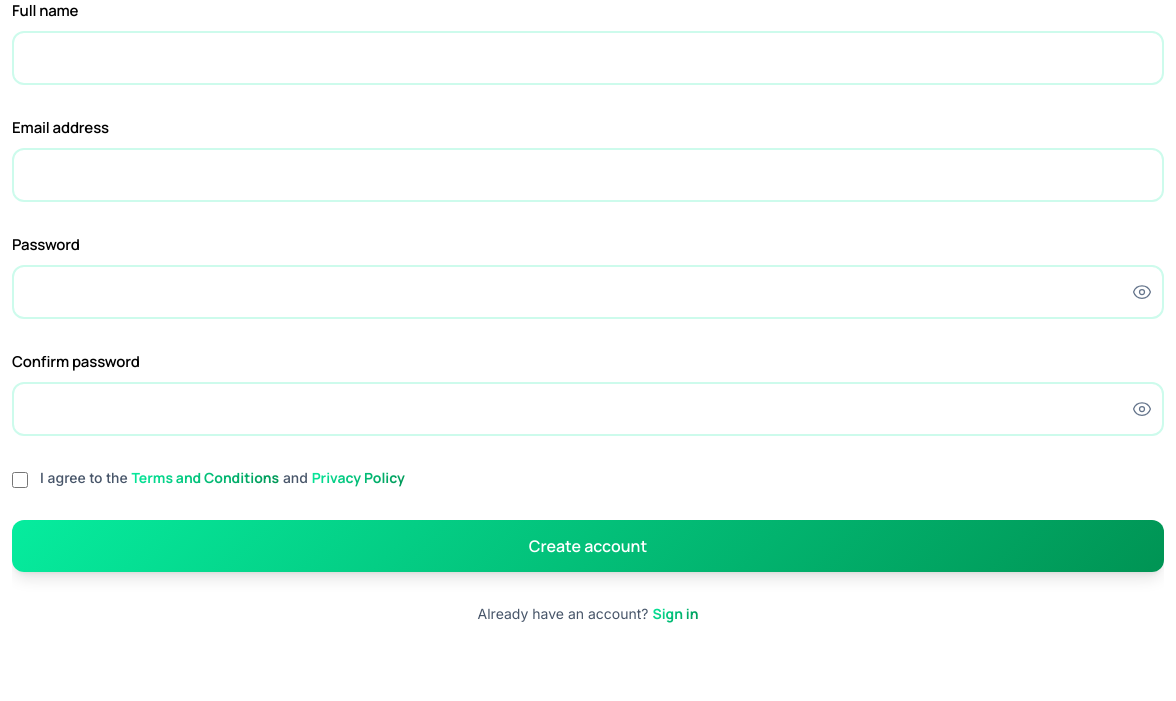
RegisterForm › shows error message for existing email (409)
This screenshot has width=1176, height=701.
Step 1. Type "John Doe" into the field labelled "Full name" → (588, 58), box [12,30,1164,85]
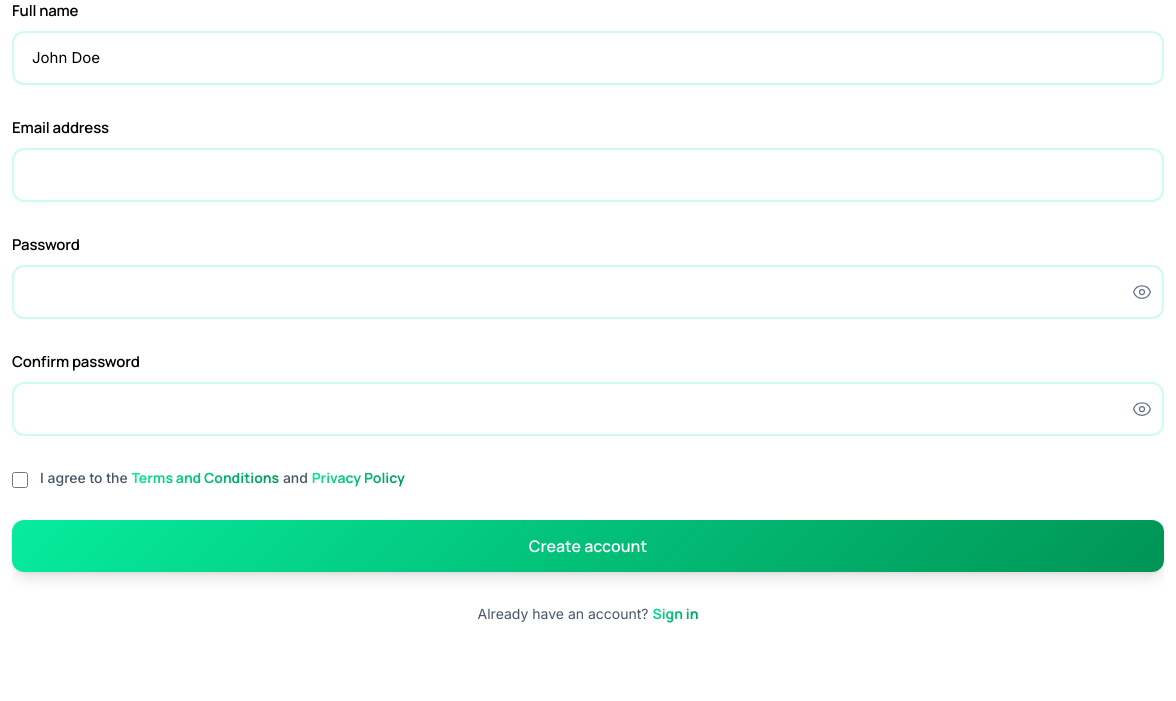
Step 2. Type "existing@example.com" into the field labelled "Email address" → (588, 175), box [12,148,1164,202]
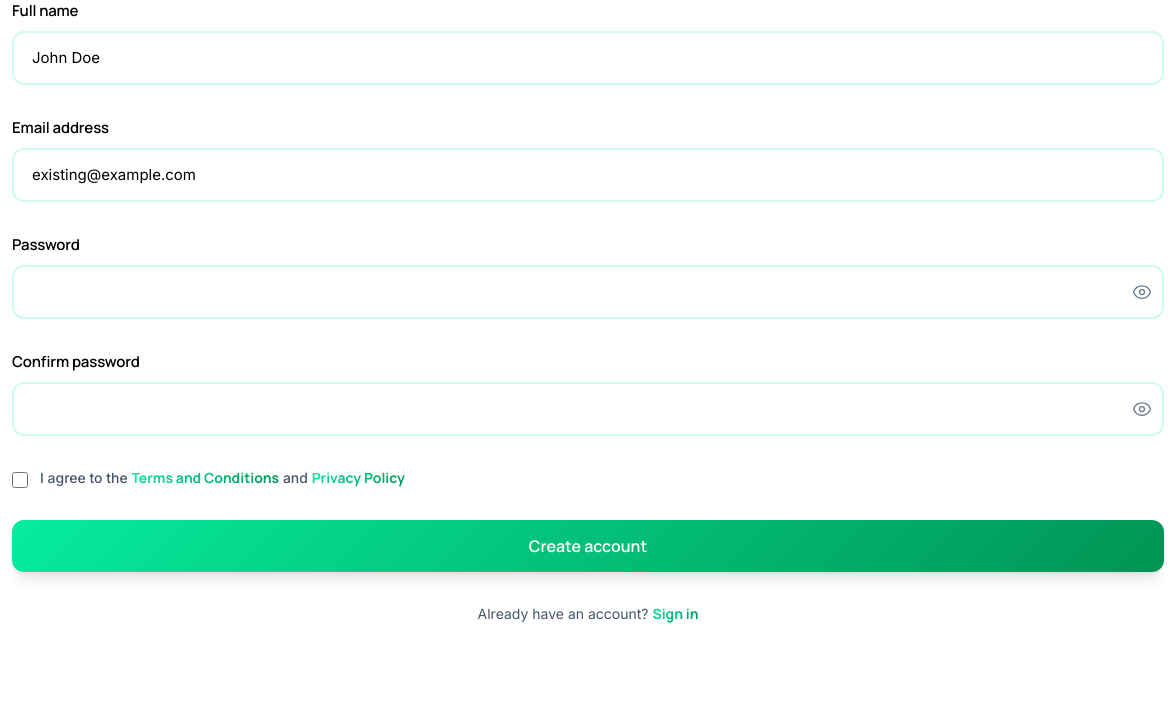
Step 3. Type "Password123!" into the password field labelled "Password" → (588, 292), box [12,264,1164,319]
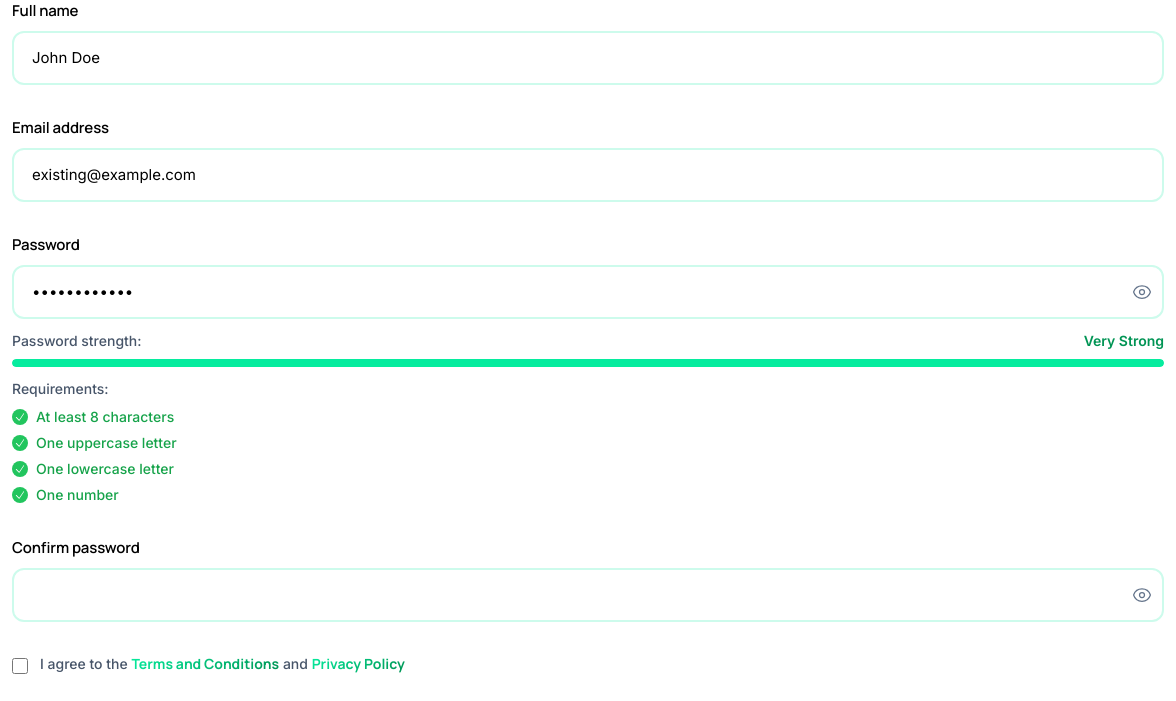
Step 4. Type "Password123!" into the password field labelled "Confirm password" → (588, 595), box [12,568,1164,622]
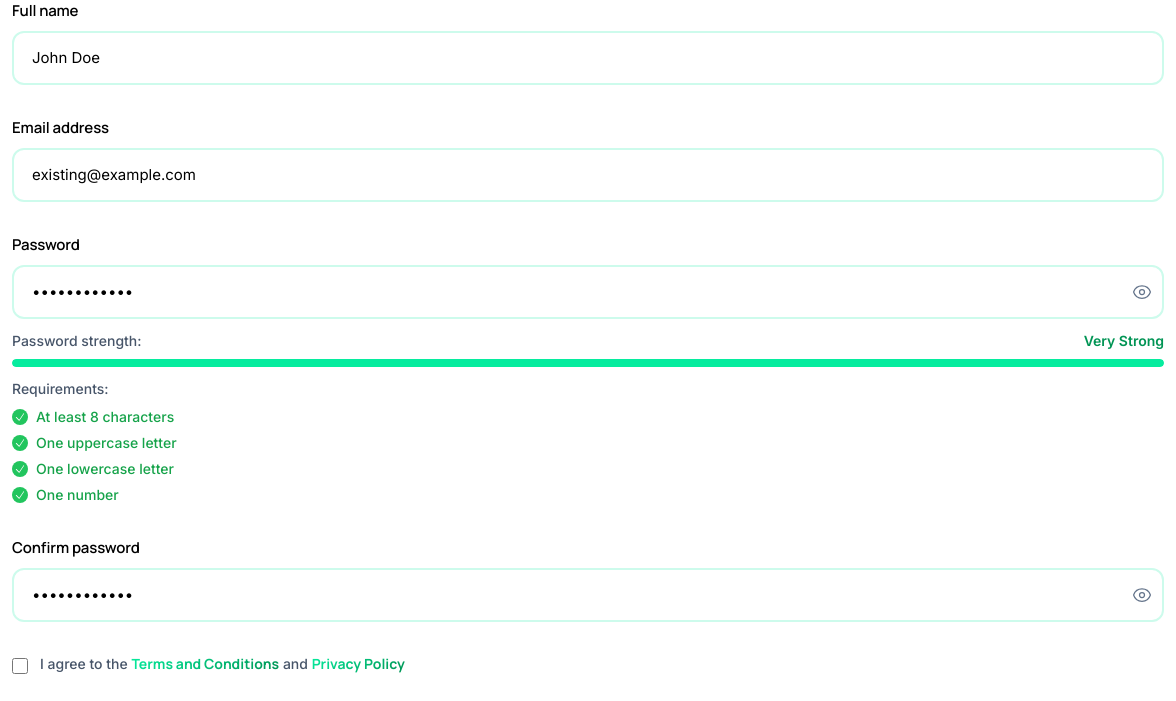
Step 5. Click the checkbox labelled "I agree to the Terms and Conditions and Privacy Policy" → (20, 666), box [12,658,28,674]
(page scrolled)
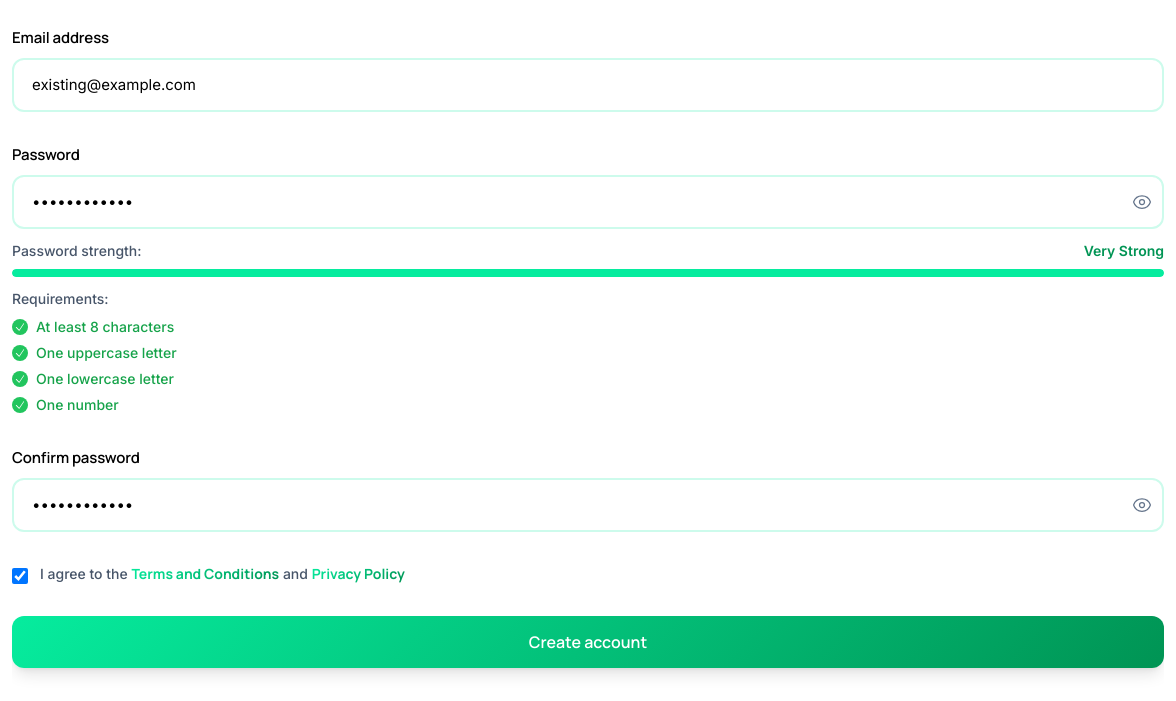
Step 6. Click the button "Create account" → (588, 642), box [12,616,1164,668]
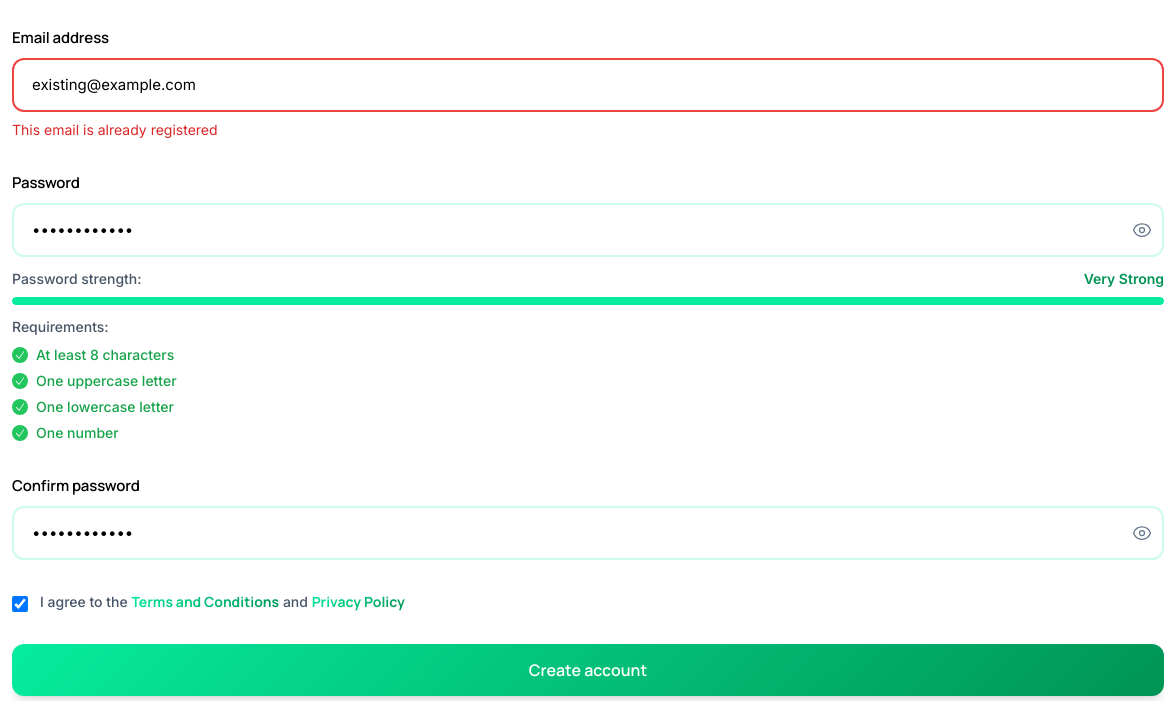
Check: the text "This email is already registered" is shown, box [12,121,218,138]
